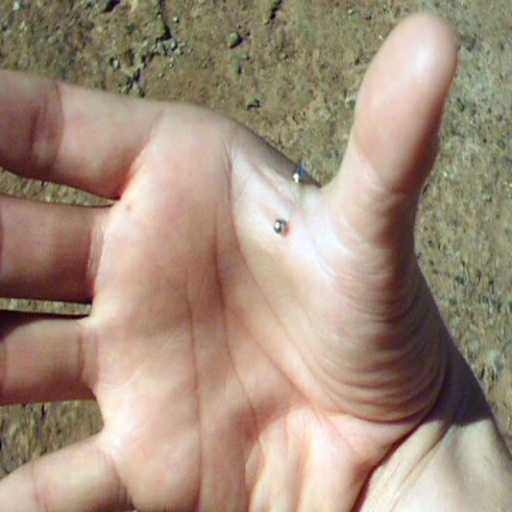hand: (0, 10, 456, 510)
